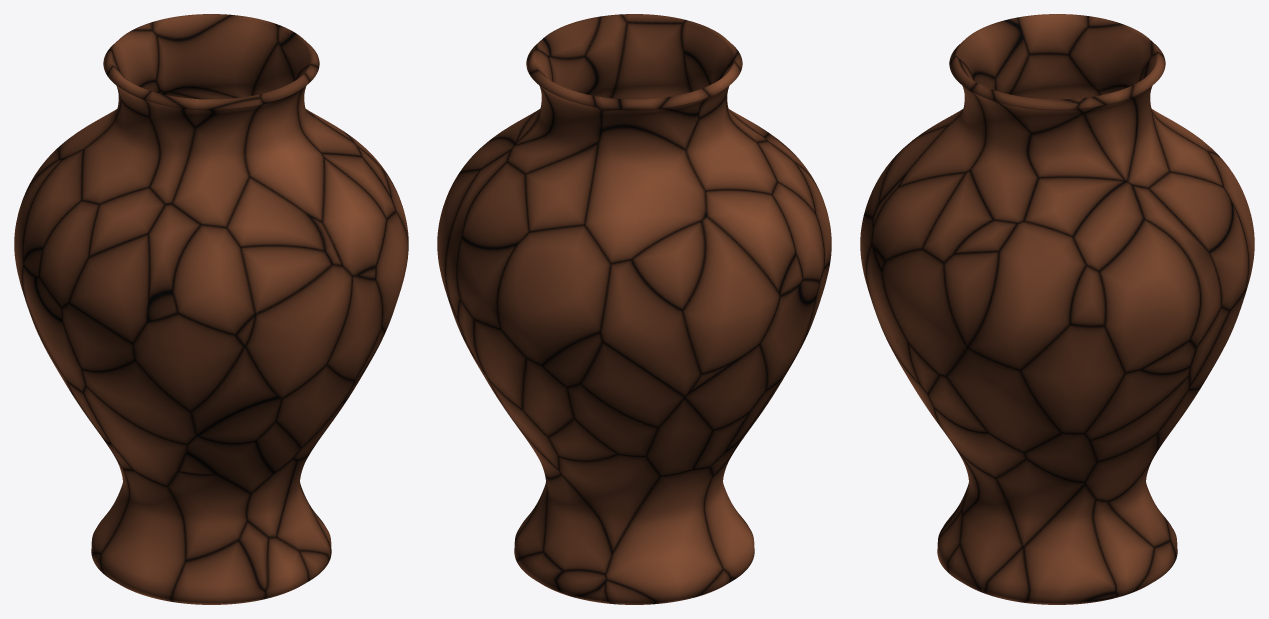
The model's file is vase_23d2476c.glb.
3 views of the same model, side by side, from view 1: azimuth 30°, elevation 25°; view 2: azimuth 150°, elevation 25°; view 3: azimuth 270°, elevation 25° (orthographic).
Parts seen in each view (by area): view 1: Synthetix_Lesson2_Exercise4_Vase_2; view 2: Synthetix_Lesson2_Exercise4_Vase_2; view 3: Synthetix_Lesson2_Exercise4_Vase_2.
Boxes of the visible parts, box(x1,y1,x2,y2) form: Synthetix_Lesson2_Exercise4_Vase_2: box(14, 14, 408, 604); Synthetix_Lesson2_Exercise4_Vase_2: box(437, 14, 831, 604); Synthetix_Lesson2_Exercise4_Vase_2: box(860, 14, 1254, 604).
Size of what is drawn, in the model's own units: 0.37 by 0.52 by 0.37.
1 material, 1 textured.
